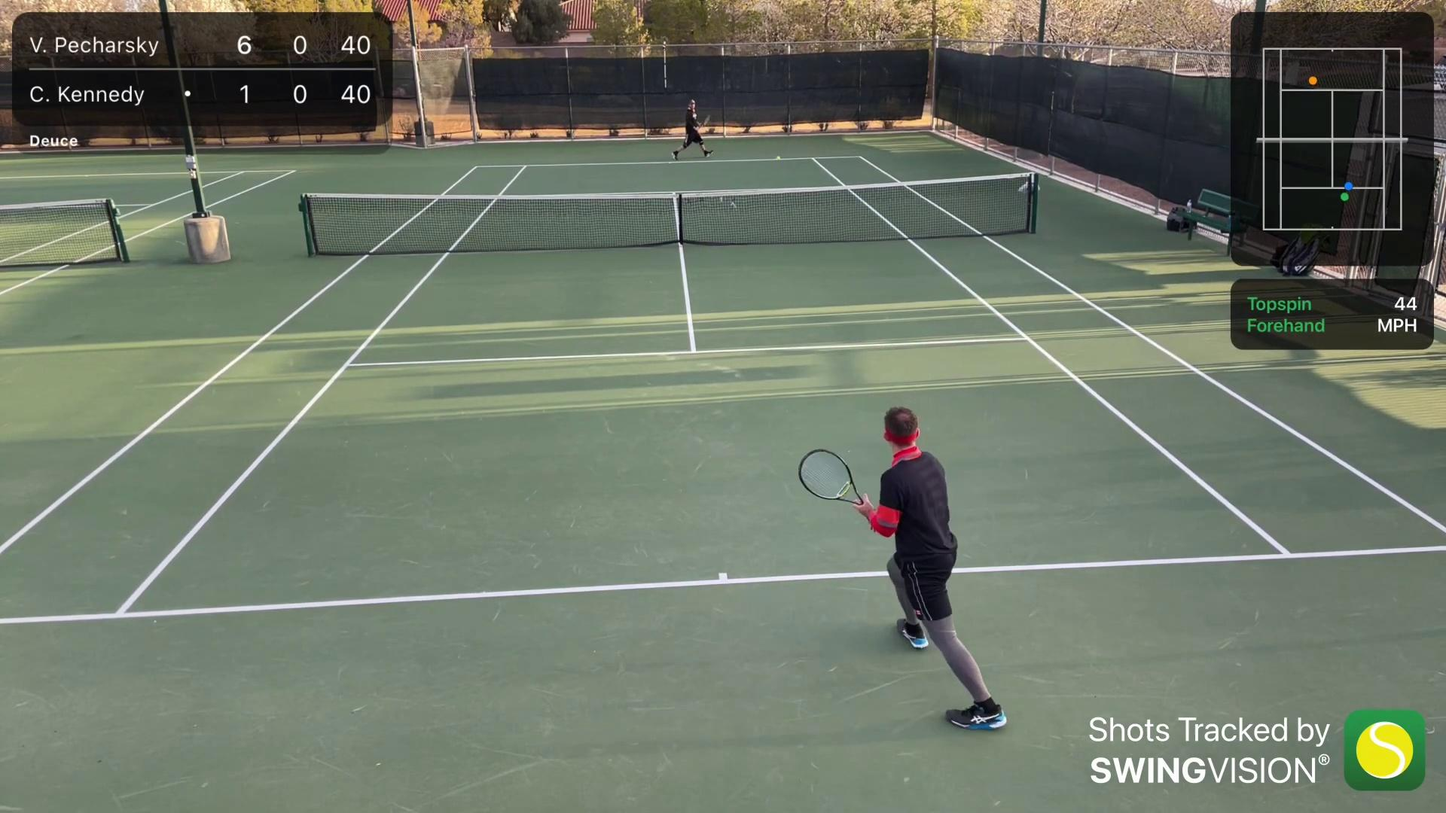ball: (774, 155, 781, 161)
